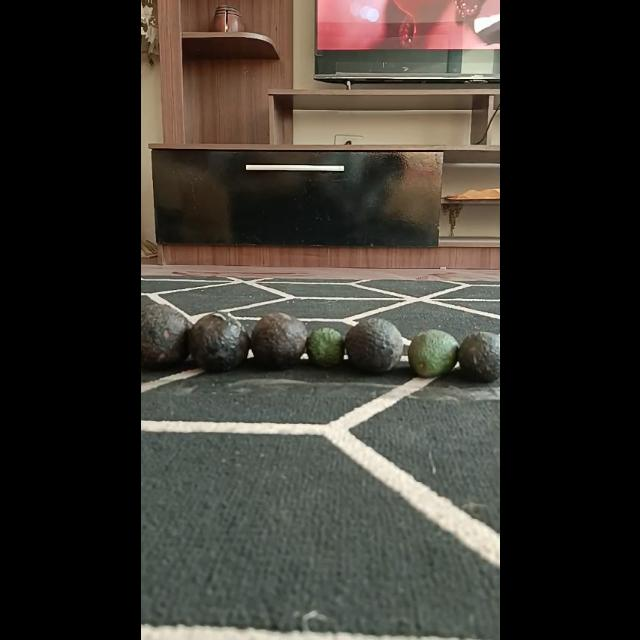Primera: (187, 312, 250, 372), (140, 304, 192, 368), (249, 313, 307, 369), (344, 318, 404, 372)
Segunda: (406, 328, 458, 378), (456, 331, 498, 382)
Tercera: (305, 327, 345, 368)
